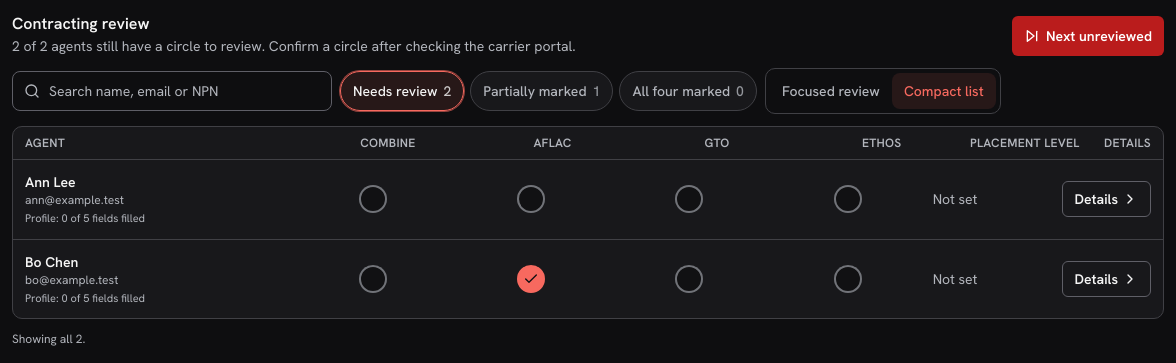
Test: tapping a circle › blocks a double tap while saving: one request, and the circle is busy and disabled
Later steps or results of the test are not shown.
Expected: the text "Ann Lee" is shown, [25,172,76,192]
Click the button named "Ethos:" in the row of "Ann Lee": {"x": 848, "y": 199} [826,177,870,221]
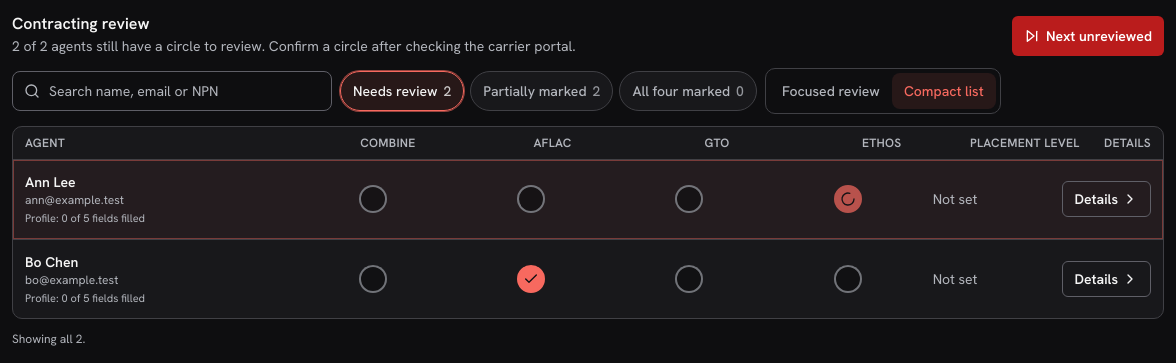
Now the button named "Ethos:" is disabled, box [826,177,870,221]
